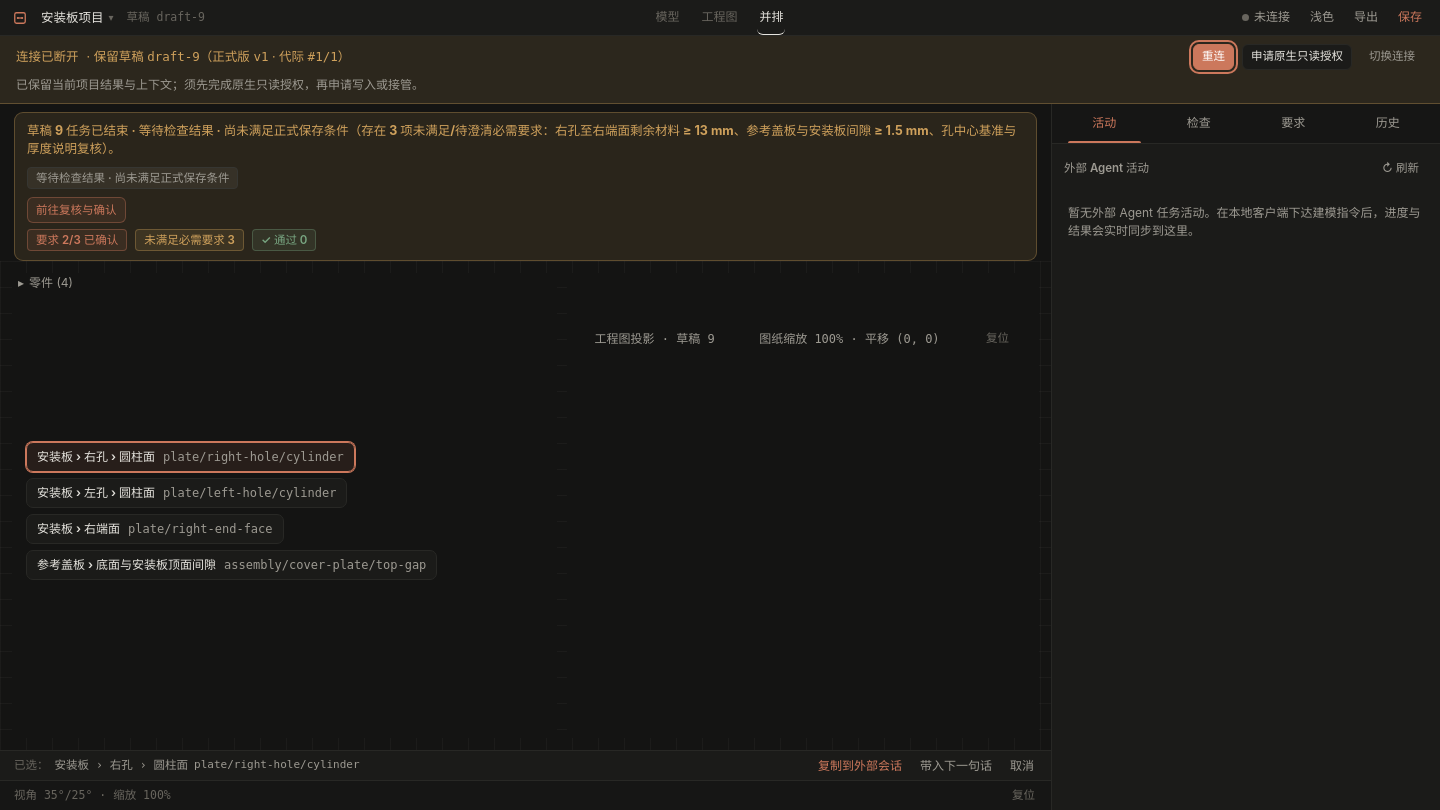
ProjectAgentM1Workbench (M2-FE-01 双视图联动、对象上下文与检查定位) › E4：两槽同版 ready 且收到 task_completed 但 checks 为空时展示明确终态摘要，并阻断正式保存
The image size is (1440, 810).
Expected: the text "任务已结束 · 等待检查结果 · 尚未满足正式保存条件" is shown, [27,123,1016,156]
Note: 打开完成视图确认正式保存仍被严格阻断
Click the button "前往复核与确认".
click(76, 210)  # box [27,197,126,223]
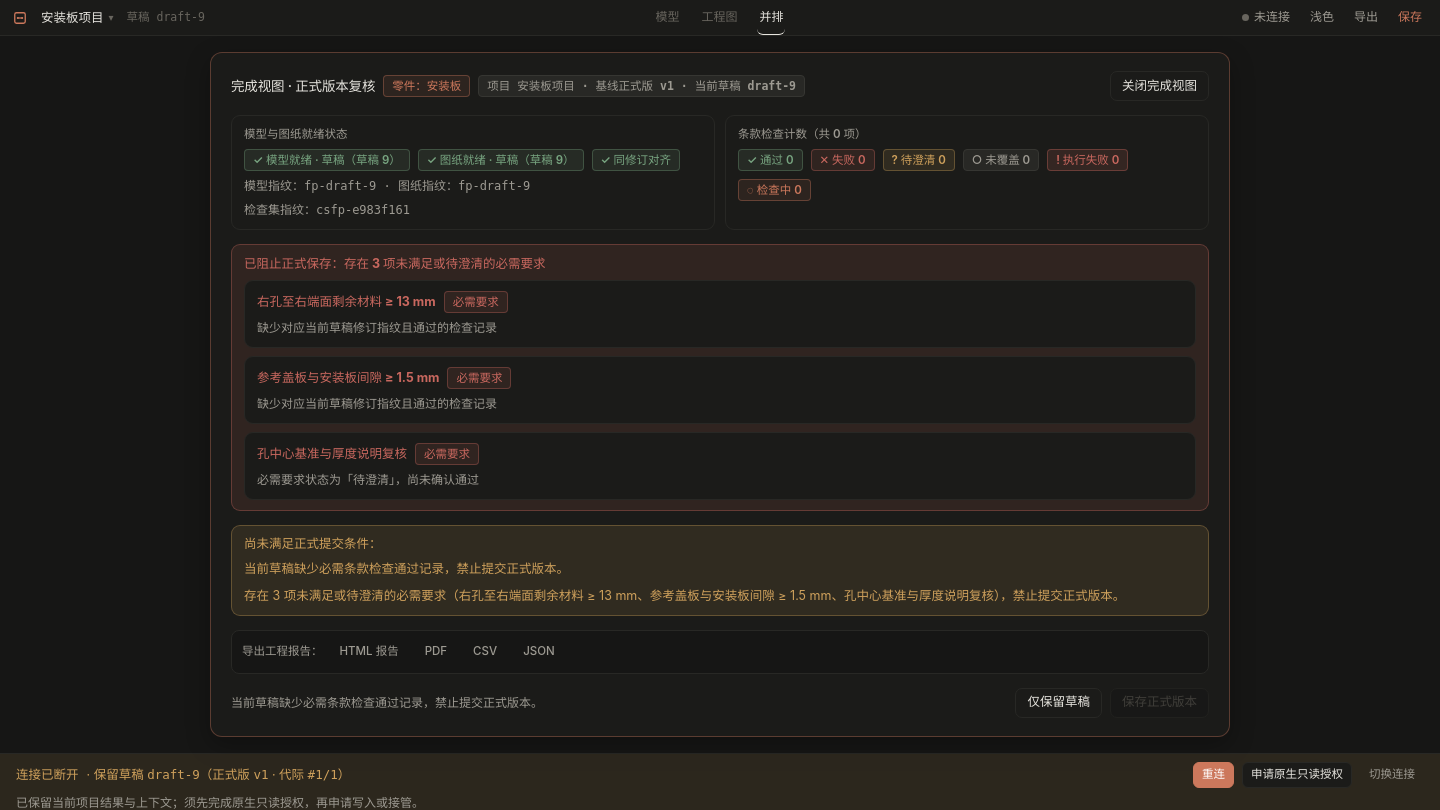
Result: the button "保存正式版本" is disabled at [1110,688,1209,718]
